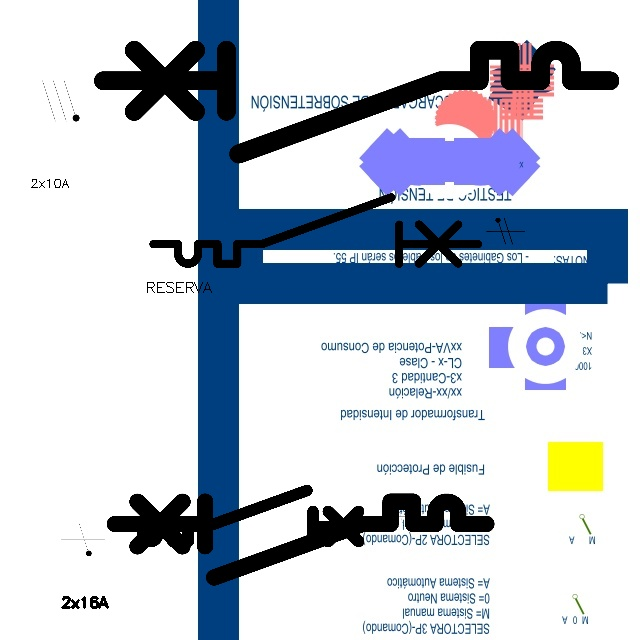interruptor_termomagnetico: (90, 37, 623, 167), (105, 492, 495, 587), (145, 189, 486, 272), (117, 484, 380, 548)
